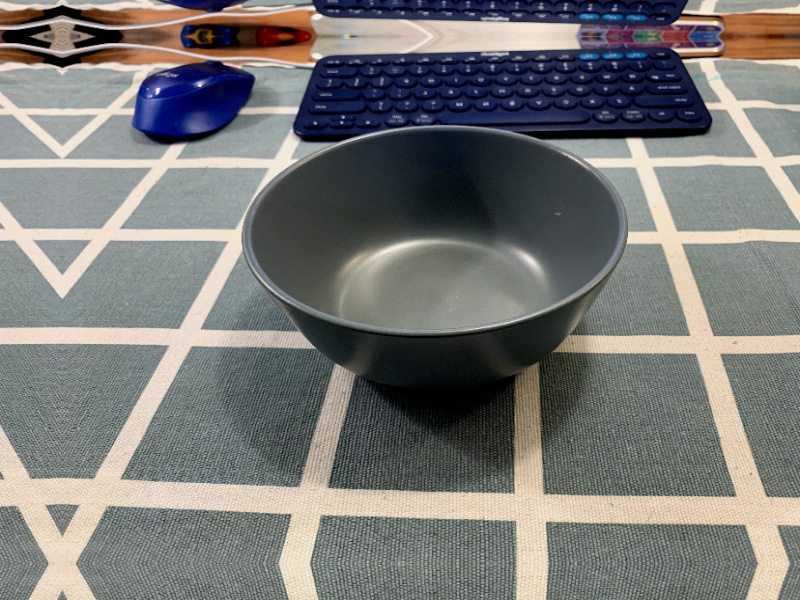bowl_big: (232, 121, 633, 395)
